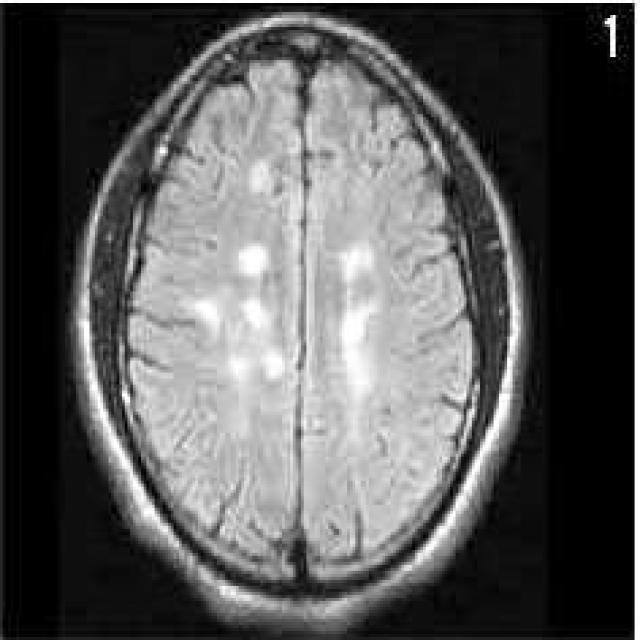notumor: (71, 18, 534, 634)
